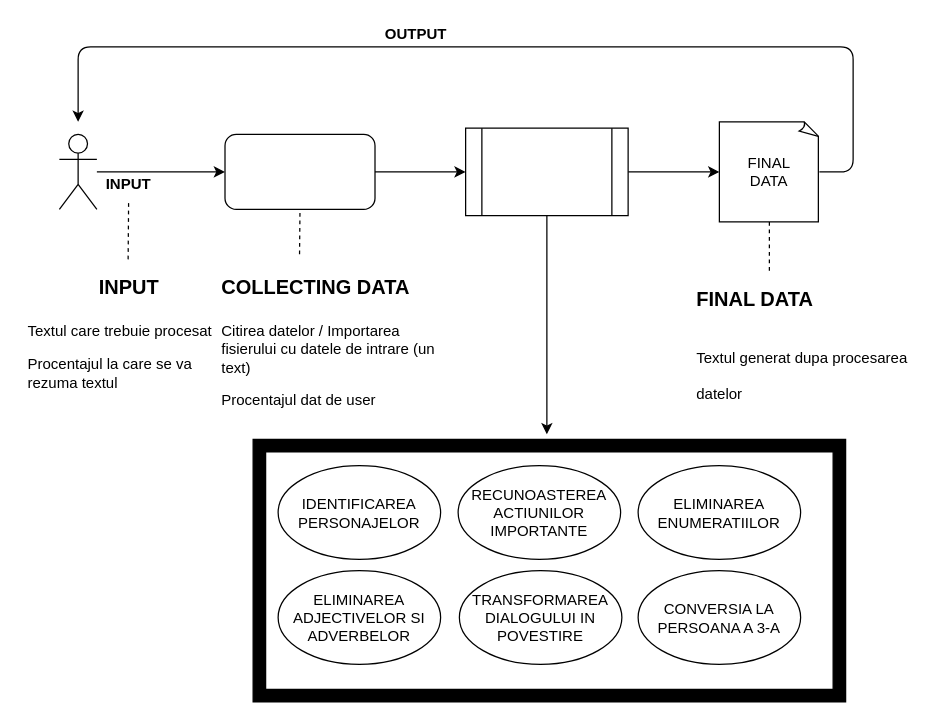
Image size: 936x724. Some labels were removed from this diagram. Here are the shapes that lost their labels. From the top down, the centre of each, then its label:
At point 77,171: "USER".
At point 299,171: "COLLECTING DATA".
At point 546,171: "PROCESSING DATA".
